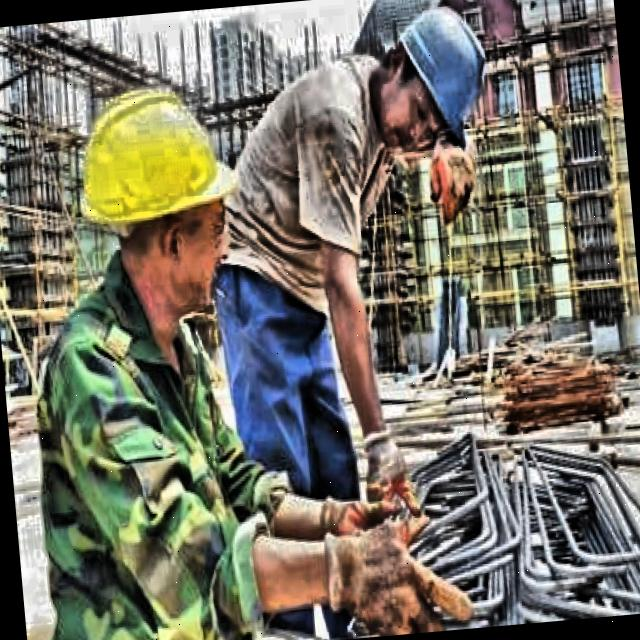helmet: (51, 59, 250, 326), (364, 0, 505, 170)
